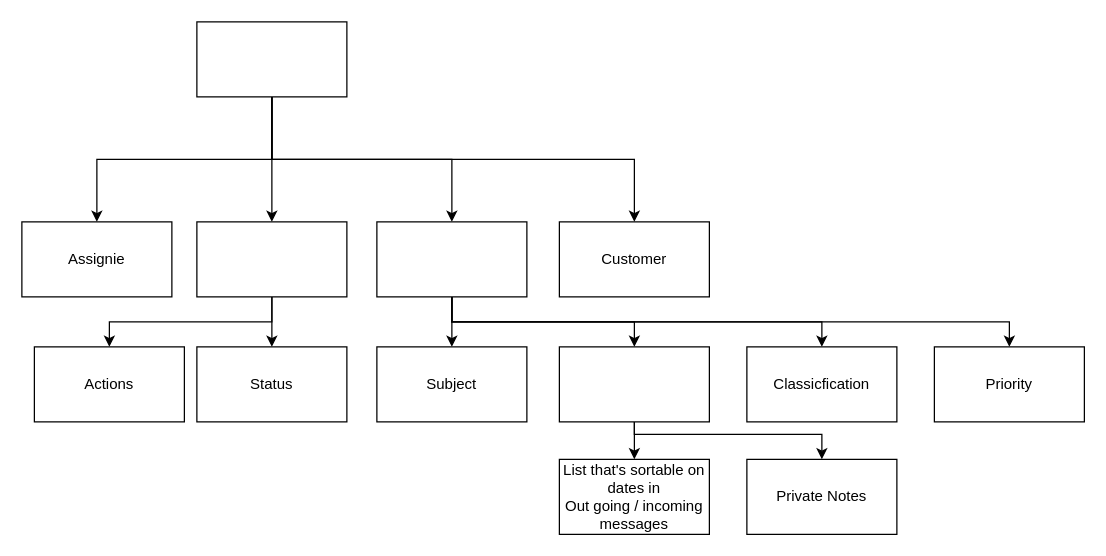
Image size: 1106x556. Some labels were removed from this diagram. The box of each missing label's shape, as (x1, y1, x2, y2) in pixels:
Content: (558, 346, 709, 422)
Support Case: (376, 221, 527, 297)
Ticket: (196, 21, 347, 97)
Ticket flow: (196, 221, 347, 297)
